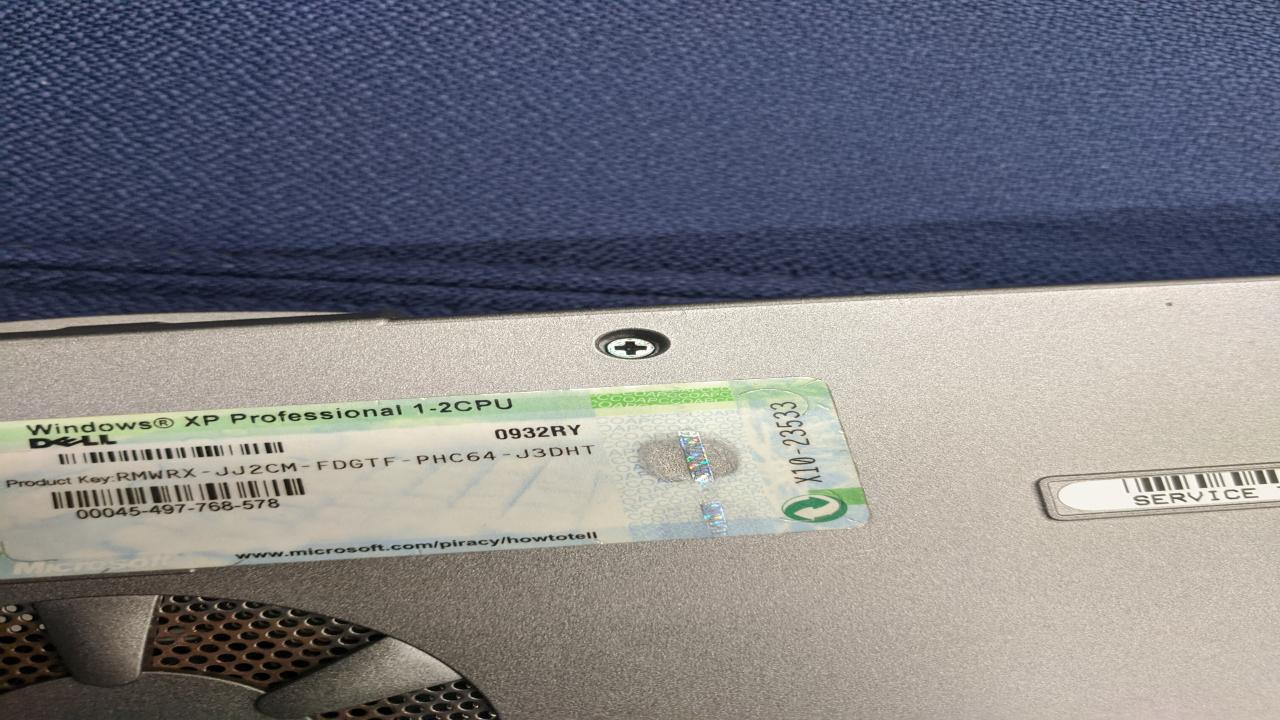CRS: (606, 337, 656, 358)
